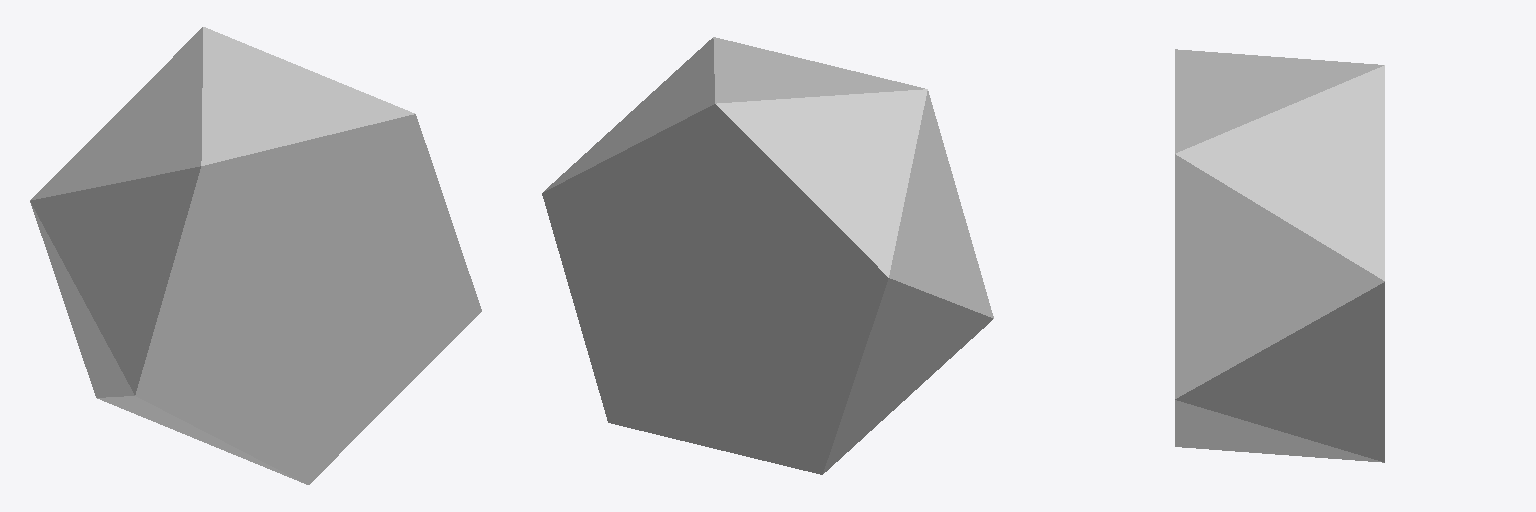
File: PentagonalAntiPrism.obj
3 renders of one model, left to right at view 1: azimuth 30°, elevation 25°; view 2: azimuth 150°, elevation 25°; view 3: azimuth 270°, elevation 25°, orthographic.
Parts seen in each view (by area): view 1: PentagonalAntiPrism; view 2: PentagonalAntiPrism; view 3: PentagonalAntiPrism.
Part boxes in pixels (x1,y1,x2,y2): PentagonalAntiPrism: (30,27,481,484); PentagonalAntiPrism: (542,37,993,474); PentagonalAntiPrism: (1175,49,1384,462).
Bounding box in the file's own units: 1.21 × 1.28 × 0.638.